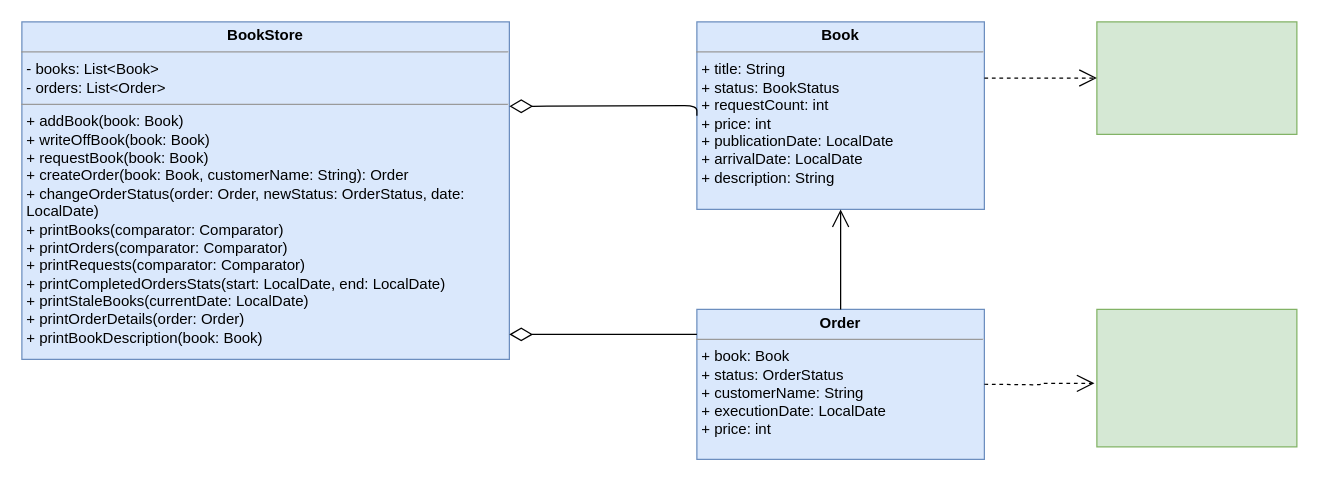
This 1319x481 diagram has some shape labels left out. The centre of each missing label's shape, as x and y in pixels:
"<<enum>> BookStatus IN_STOCK OUT_OF_STOCK" belongs at point 1196,77.
"<<enum>> OrderStatus NEW COMPLETED CANCELED" belongs at point 1196,377.
